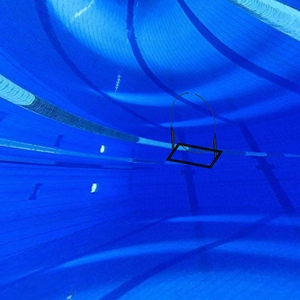circle: (165, 91, 225, 172)
